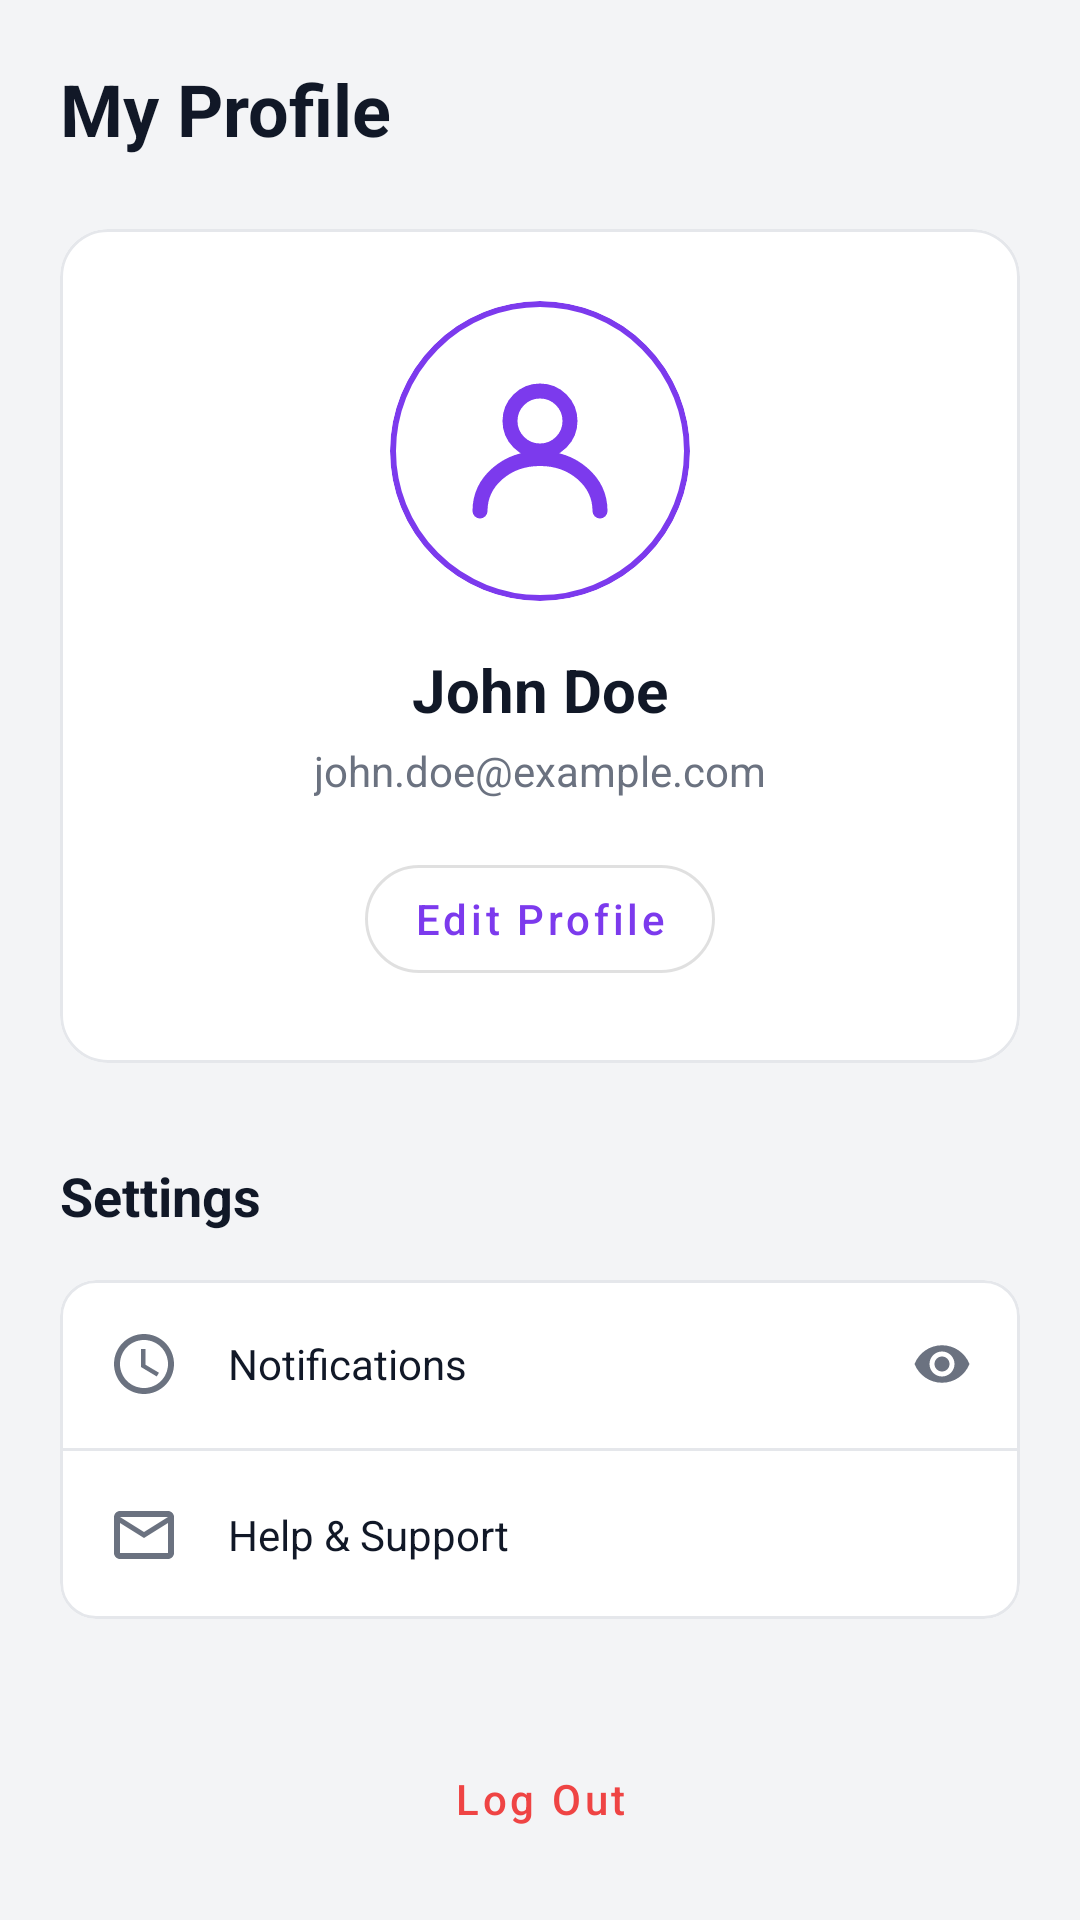

Icons on this 1080x1920 Android screen, each with the point to tap as point (x, y):
clock: point (144, 1364)
eye: point (942, 1364)
mail: point (144, 1535)
user: point (540, 451)
